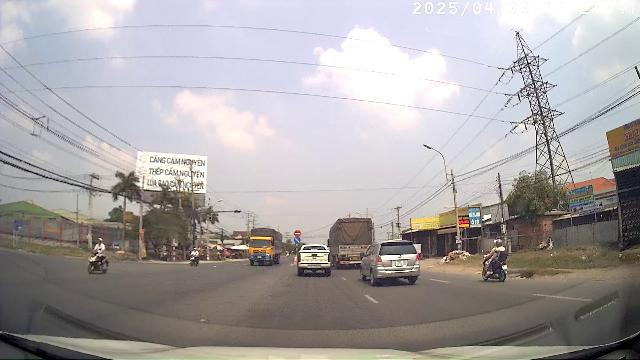102-cam-di-nguoc-chieu: (294, 230, 300, 236)
302a-huong-phai-di-vong-chuong-ngai-vat-1: (294, 236, 300, 243)
